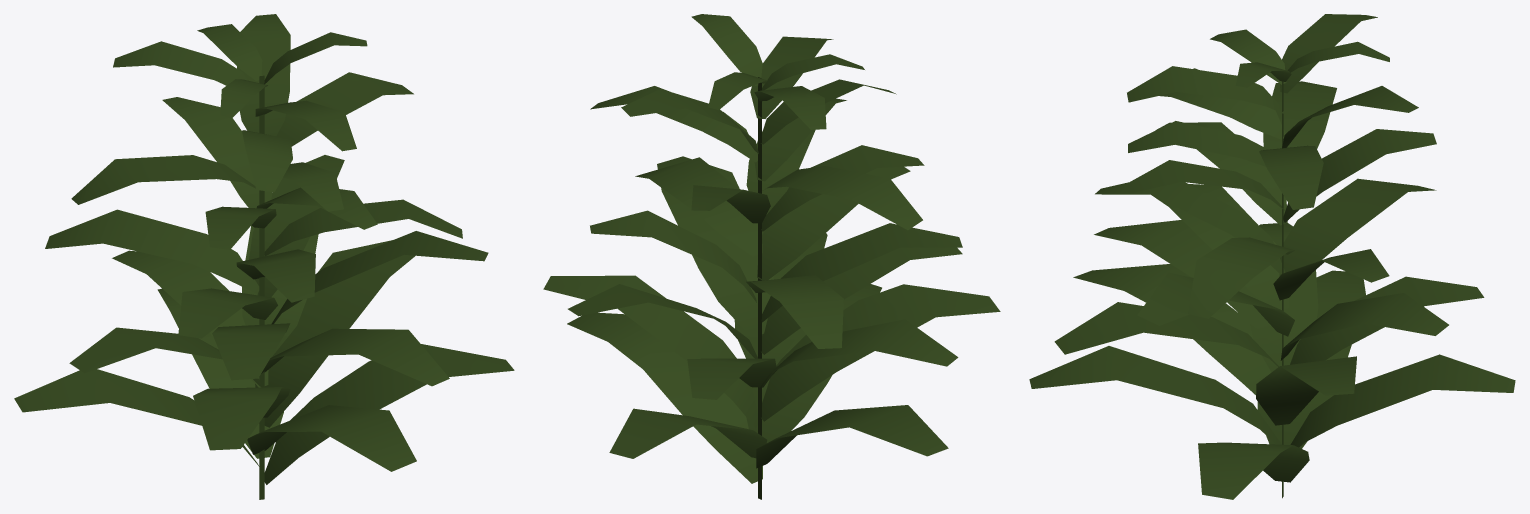
The model's file is Foliage hoch.fbx.
3 views of the same model, side by side, from view 1: azimuth 30°, elevation 25°; view 2: azimuth 150°, elevation 25°; view 3: azimuth 270°, elevation 25° (orthographic).
Visible parts, largest first — view 1: plant high; view 2: plant high; view 3: plant high.
Boxes of the visible parts, x1,y1,x2,y2 form: plant high: [14, 14, 514, 499]; plant high: [543, 14, 1000, 499]; plant high: [1029, 14, 1515, 499].
Size of the model in its own units: 93.75 by 94.45 by 90.71.
